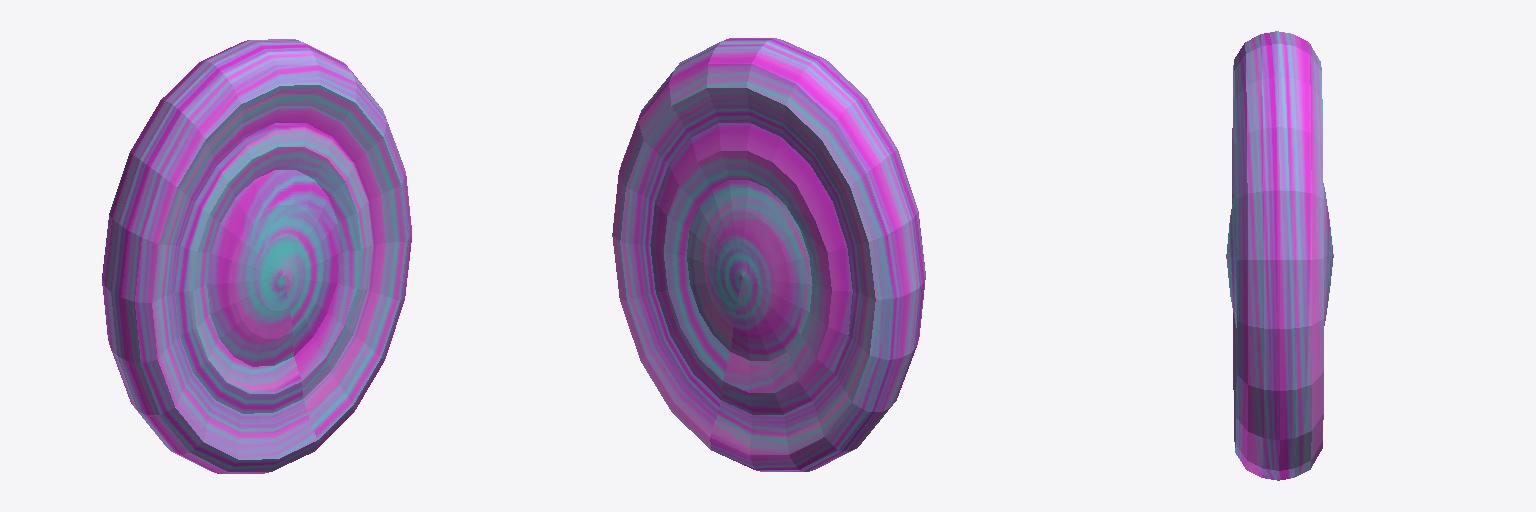
The picture shows the model from 3 angles: view 1: azimuth 30°, elevation 25°; view 2: azimuth 150°, elevation 25°; view 3: azimuth 270°, elevation 25°; orthographic projection.
Visible parts, largest first — view 1: pSphere1; view 2: pSphere1; view 3: pSphere1.
Boxes of the visible parts, x1=… form: pSphere1: x1=102, y1=39, x2=411, y2=473; pSphere1: x1=612, y1=38, x2=925, y2=471; pSphere1: x1=1226, y1=31, x2=1333, y2=480.
Size of the model in its own units: 2.6 by 3.6 by 0.8218.
Materials: 1 (1 with a texture image).